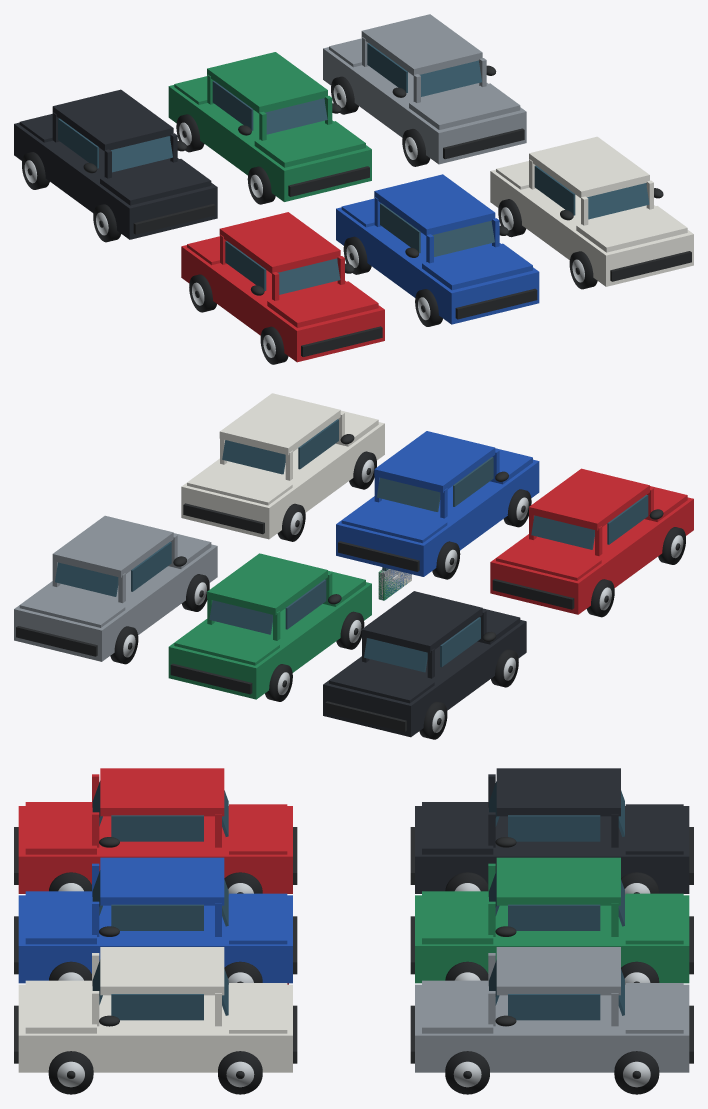
File: automoviles.glb
3 views of the same model, one above another, from view 1: azimuth 30°, elevation 25°; view 2: azimuth 150°, elevation 25°; view 3: azimuth 270°, elevation 25° (orthographic). The views are drawn at different scales.
Parts seen in each view (by area): view 1: AUTO_05_Carroceria, AUTO_02_Carroceria, AUTO_04_Carroceria, AUTO_01_Carroceria, AUTO_03_Carroceria, AUTO_06_Carroceria, AUTO_06_Techo, AUTO_01_Techo, AUTO_04_Techo, AUTO_02_Techo, AUTO_03_Techo, AUTO_05_Techo (+38 smaller); view 2: AUTO_02_Carroceria, AUTO_01_Carroceria, AUTO_03_Carroceria, AUTO_05_Carroceria, AUTO_04_Carroceria, AUTO_06_Carroceria, AUTO_03_Techo, AUTO_06_Techo, AUTO_02_Techo, AUTO_04_Techo, AUTO_05_Techo, AUTO_01_Techo (+42 smaller); view 3: AUTO_06_Carroceria, AUTO_03_Carroceria, AUTO_04_Carroceria, AUTO_01_Carroceria, AUTO_05_Carroceria, AUTO_02_Carroceria, AUTO_05_Techo, AUTO_02_Techo, AUTO_04_Techo, AUTO_01_Techo, AUTO_06_Techo, AUTO_03_Techo (+30 smaller).
Part boxes in pixels (box(x1,y1,x2,y2)): AUTO_05_Carroceria: box(168, 85, 371, 201); AUTO_02_Carroceria: box(336, 207, 539, 324); AUTO_04_Carroceria: box(14, 122, 217, 239); AUTO_01_Carroceria: box(181, 245, 384, 362); AUTO_03_Carroceria: box(490, 169, 693, 286); AUTO_06_Carroceria: box(323, 47, 526, 164); AUTO_06_Techo: box(361, 14, 482, 75); AUTO_01_Techo: box(219, 212, 340, 273); AUTO_04_Techo: box(52, 89, 173, 150); AUTO_02_Techo: box(374, 174, 495, 235); AUTO_03_Techo: box(529, 136, 649, 197); AUTO_05_Techo: box(207, 52, 327, 113); AUTO_02_Carroceria: box(336, 459, 539, 576); AUTO_01_Carroceria: box(490, 497, 693, 614); AUTO_03_Carroceria: box(181, 422, 384, 539); AUTO_05_Carroceria: box(168, 582, 371, 699); AUTO_04_Carroceria: box(323, 620, 526, 737); AUTO_06_Carroceria: box(14, 544, 217, 661); AUTO_03_Techo: box(219, 393, 340, 455); AUTO_06_Techo: box(52, 515, 173, 577); AUTO_02_Techo: box(374, 431, 495, 492); AUTO_04_Techo: box(361, 591, 482, 652); AUTO_05_Techo: box(207, 553, 327, 615); AUTO_01_Techo: box(529, 468, 649, 530); AUTO_06_Carroceria: box(415, 984, 689, 1072); AUTO_03_Carroceria: box(18, 984, 292, 1072); AUTO_04_Carroceria: box(415, 806, 689, 893); AUTO_01_Carroceria: box(18, 806, 292, 893); AUTO_05_Carroceria: box(415, 895, 689, 983); AUTO_02_Carroceria: box(18, 895, 292, 983); AUTO_05_Techo: box(496, 857, 620, 905); AUTO_02_Techo: box(100, 857, 224, 905); AUTO_04_Techo: box(496, 768, 620, 816); AUTO_01_Techo: box(100, 768, 224, 816); AUTO_06_Techo: box(496, 947, 620, 995); AUTO_03_Techo: box(100, 947, 224, 995).
Bounding box in the file's own units: 8.49 × 2.03 × 10.29.
